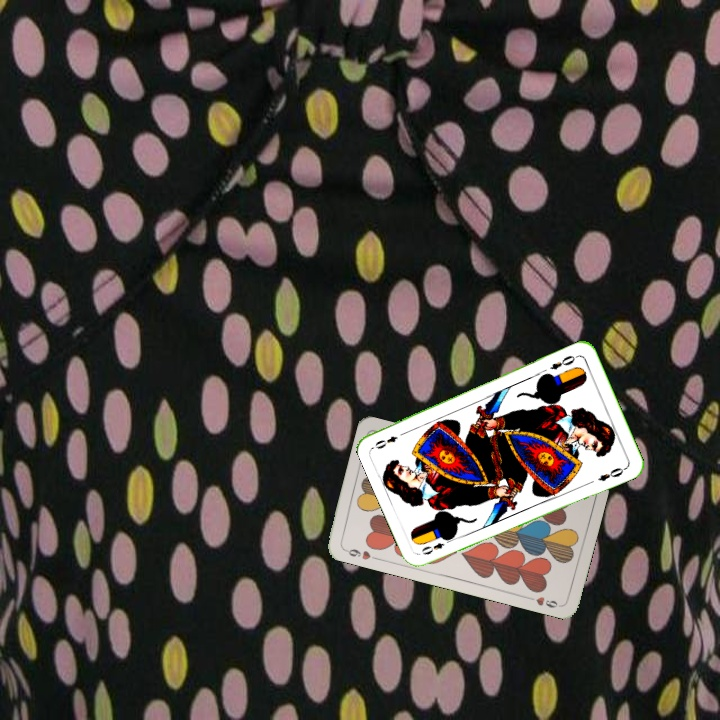EO: (417, 534, 455, 558), (546, 351, 581, 372)
H9: (340, 545, 380, 562)
